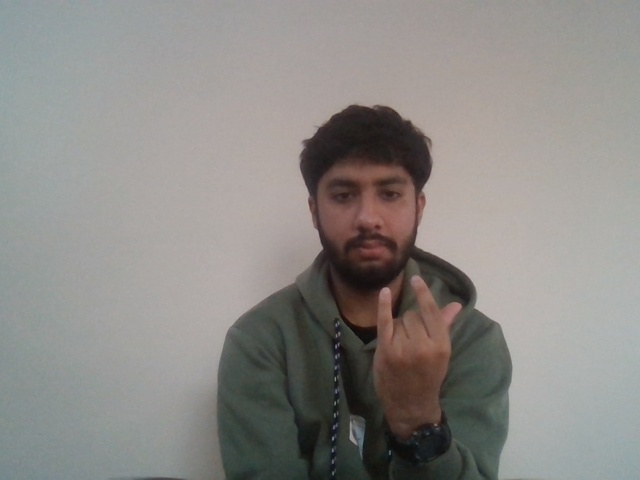IloveYou: (366, 280, 479, 383)
